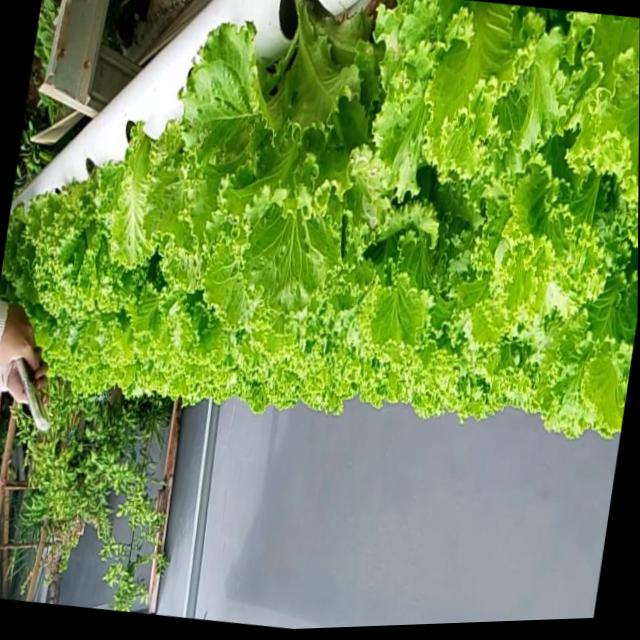Mature: (0, 0, 640, 440), (192, 4, 390, 301), (8, 140, 160, 349)
